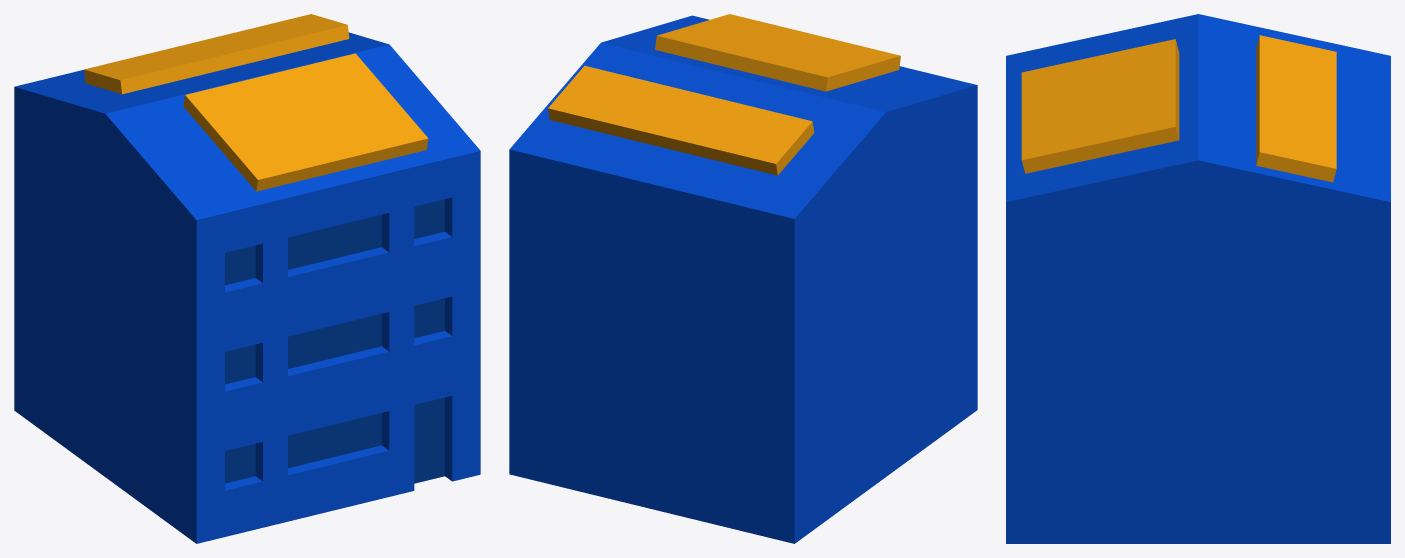
The model's file is binaacilacak4.gltf.
The picture shows the model from 3 angles, left to right: view 1: azimuth 30°, elevation 25°; view 2: azimuth 150°, elevation 25°; view 3: azimuth 270°, elevation 25°; orthographic projection. The views are drawn at different scales.
Parts seen in each view (by area): view 1: Building_051.023, Building_051_RoofCap_0.003, Building_051.024, Building_051_RoofCap_1.003, Building_051.025; view 2: Building_051.023, Building_051_RoofCap_1.003, Building_051_RoofCap_0.003; view 3: Building_051.023, Building_051_RoofCap_0.003, Building_051_RoofCap_1.003.
Boxes of the visible parts, x1=… form: Building_051.023: x1=14, y1=32, x2=480, y2=543; Building_051_RoofCap_0.003: x1=183, y1=53, x2=428, y2=191; Building_051.024: x1=225, y1=199, x2=444, y2=483; Building_051_RoofCap_1.003: x1=84, y1=14, x2=349, y2=94; Building_051.025: x1=414, y1=397, x2=444, y2=483; Building_051.023: x1=509, y1=15, x2=977, y2=543; Building_051_RoofCap_1.003: x1=548, y1=65, x2=814, y2=175; Building_051_RoofCap_0.003: x1=655, y1=14, x2=900, y2=91; Building_051.023: x1=1006, y1=14, x2=1390, y2=543; Building_051_RoofCap_0.003: x1=1021, y1=39, x2=1179, y2=173; Building_051_RoofCap_1.003: x1=1256, y1=35, x2=1336, y2=182.
Size of the model in its own units: 0.0489 by 0.0614 by 0.0543.
